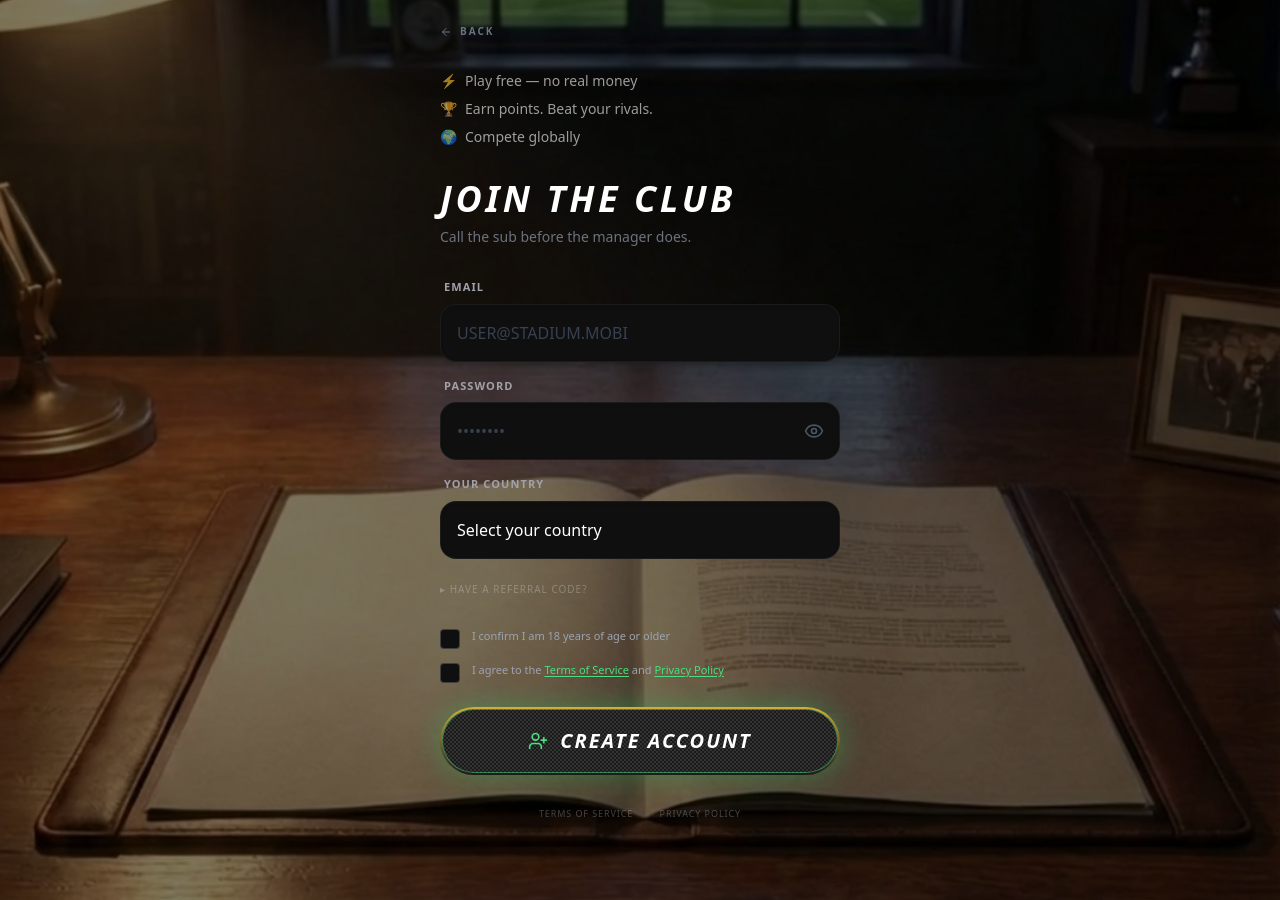
Signup Page › Email confirmation required › displays the submitted email in the confirmation message
This screenshot has width=1280, height=900.
Type "manager@club.com" into the field with placeholder "USER@STADIUM.MOBI" at (640, 332), box [440,304,840,362]
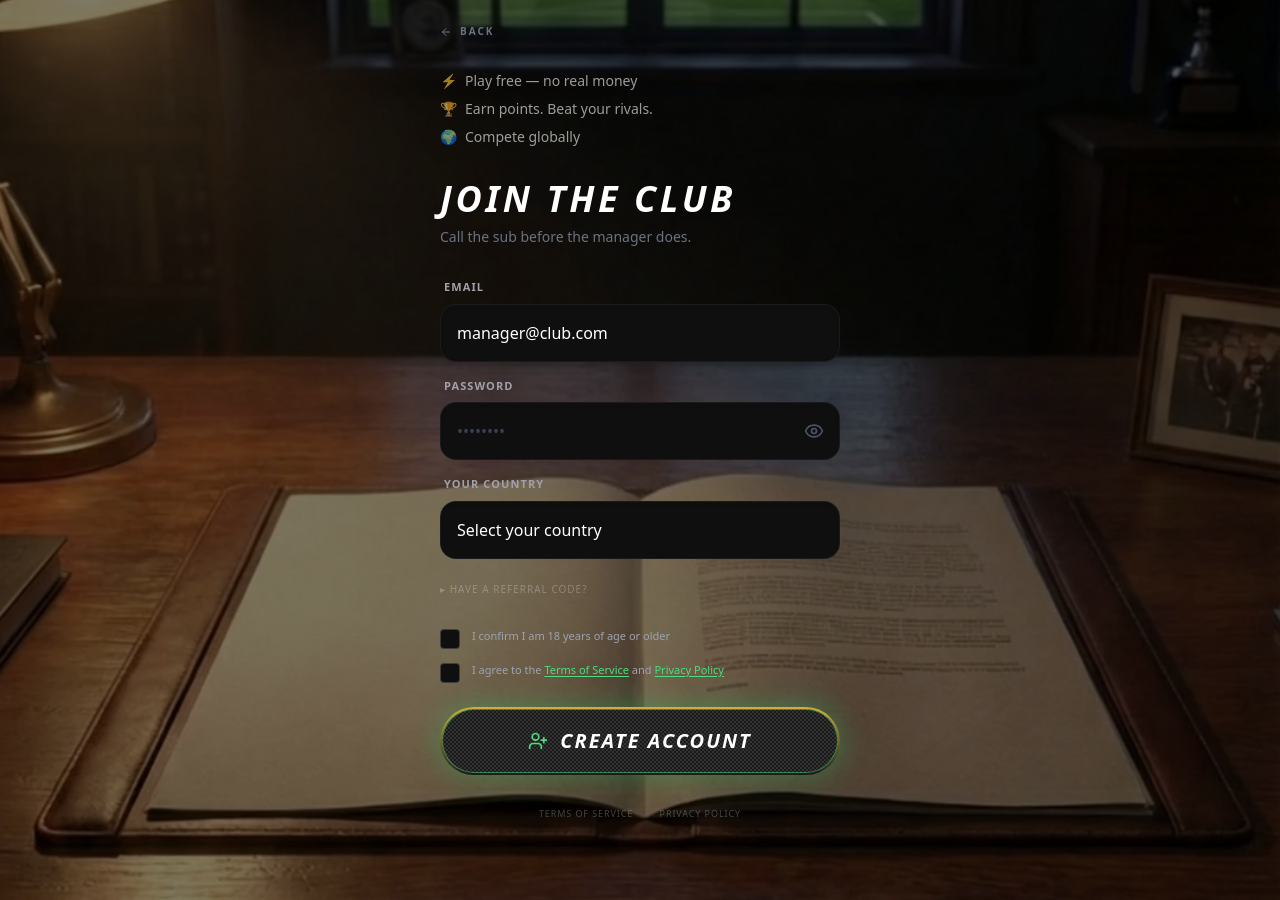
Click the checkbox labelled "I confirm I am 18 years of age or older" at (555, 638), box [440,628,670,648]
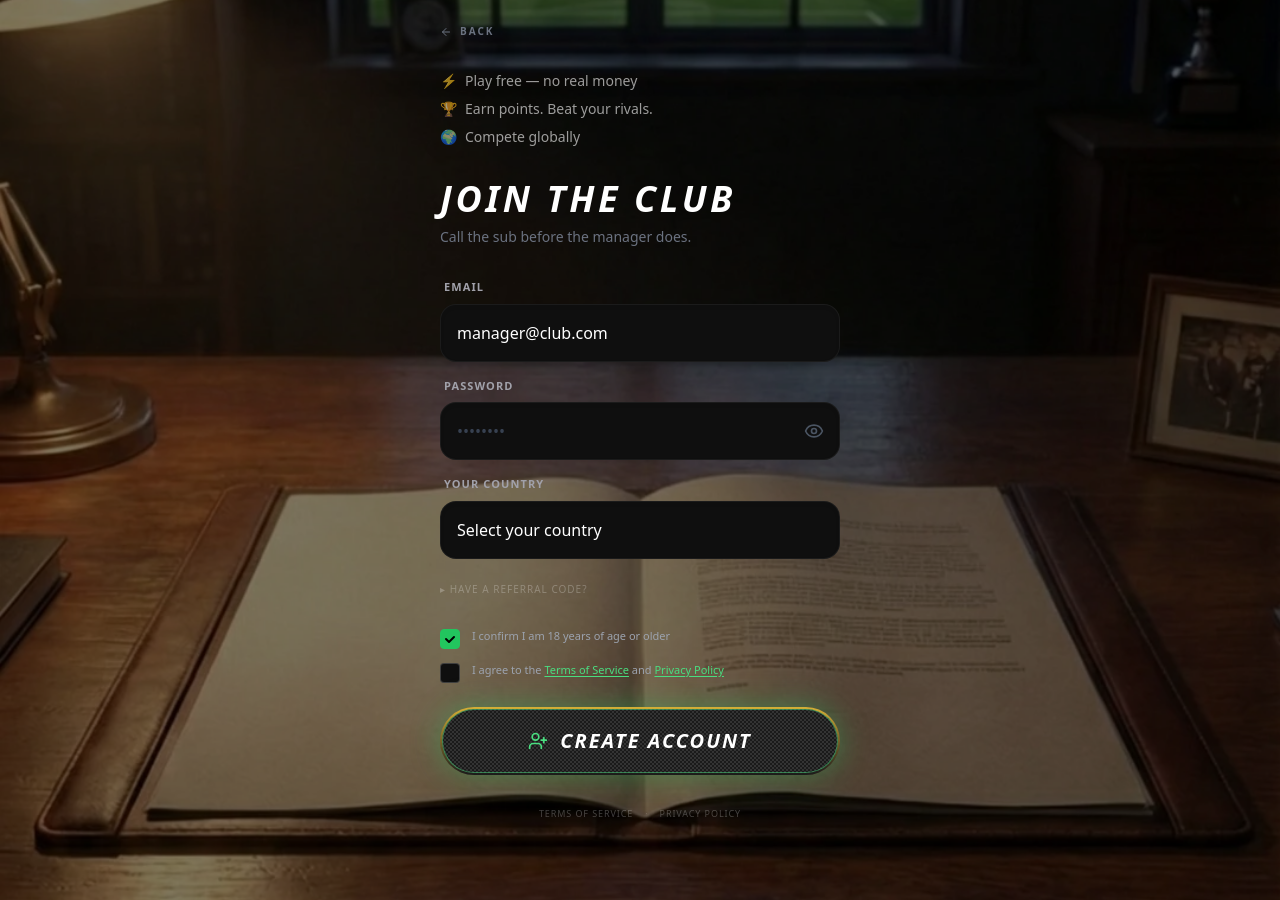
Click the checkbox labelled "I agree to the Terms of Service and Privacy Policy" at (582, 672), box [440,662,724,682]
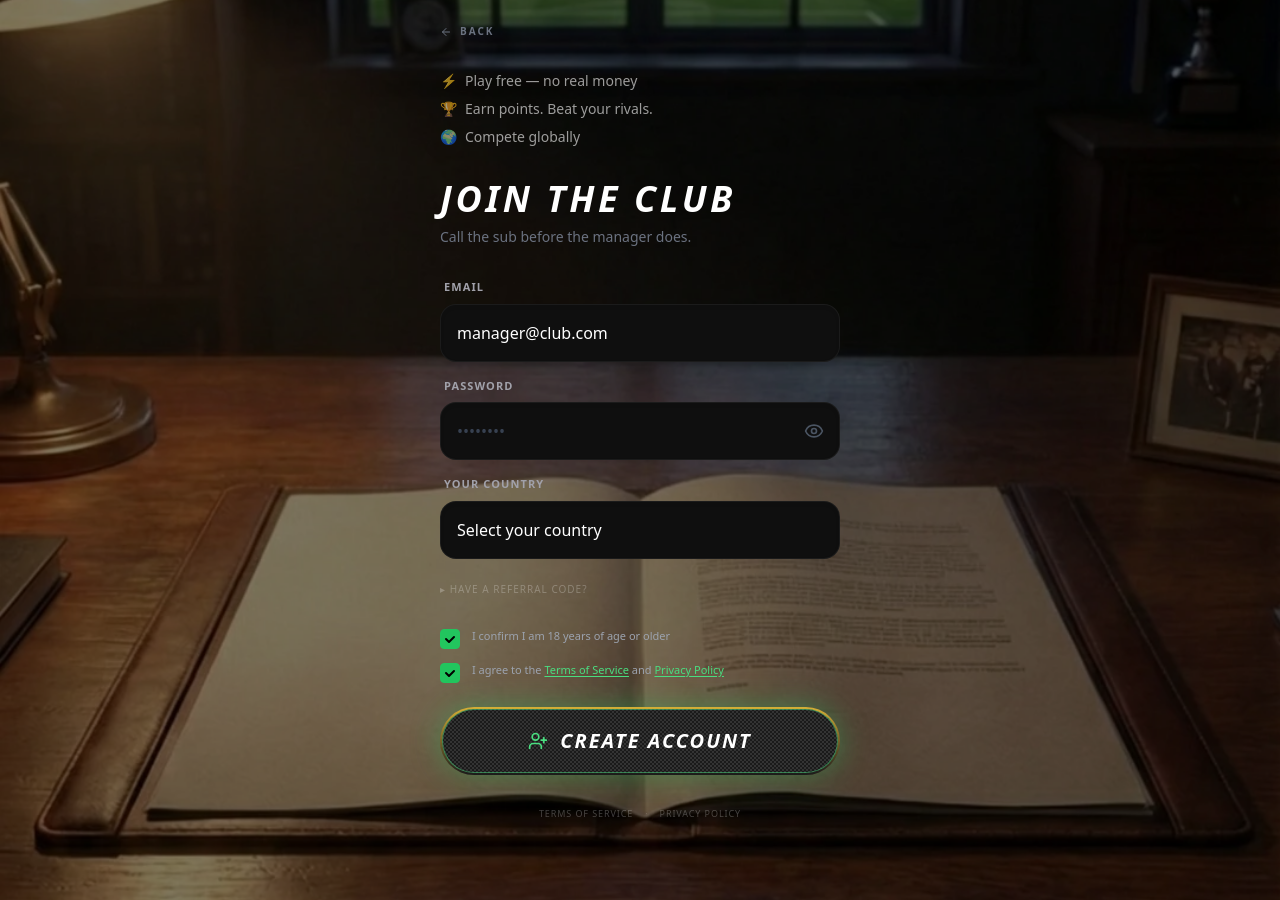
Submit the text "CREATE ACCOUNT", box [440,279,840,820]
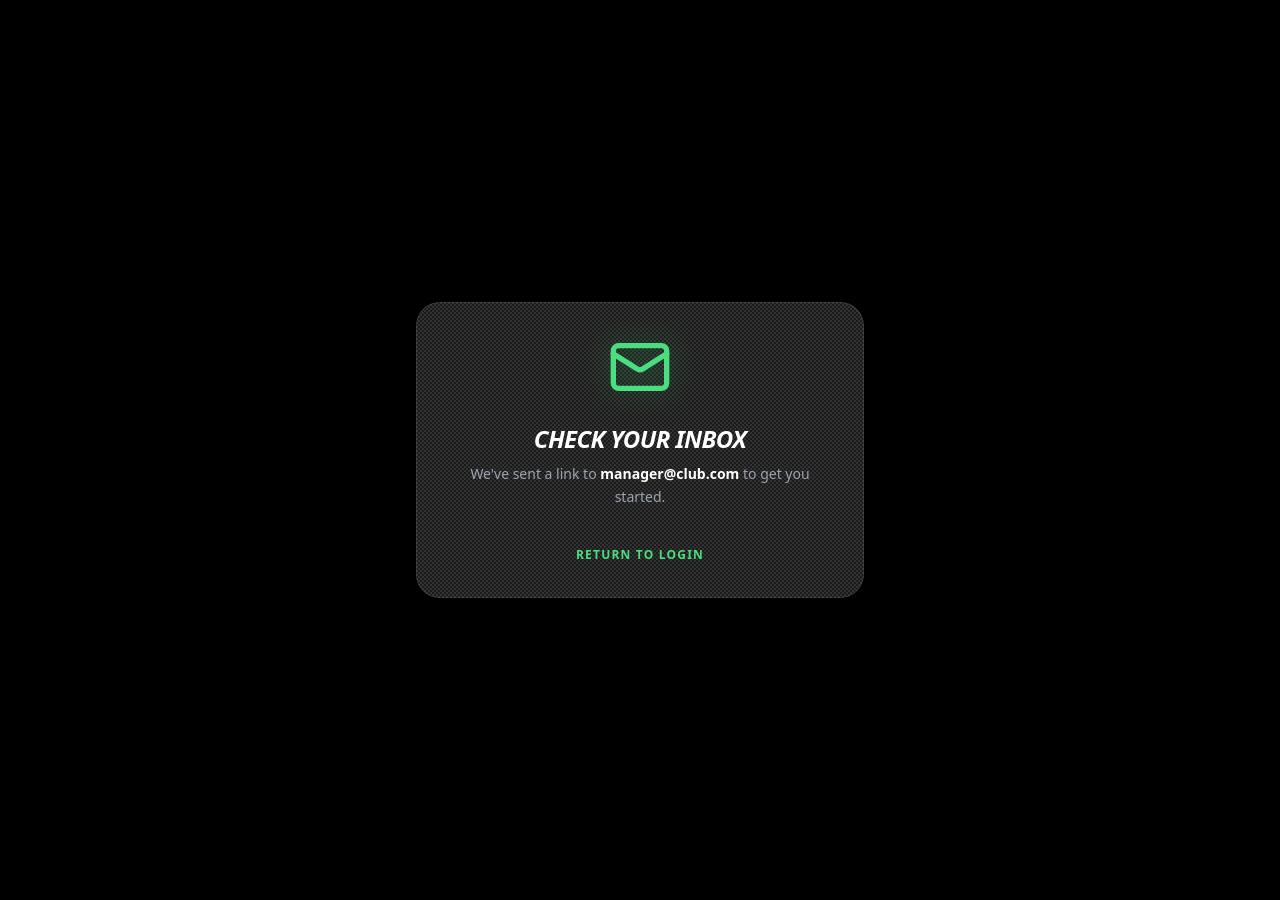
Check: the text "manager@club.com" is shown, box [600,464,739,483]
